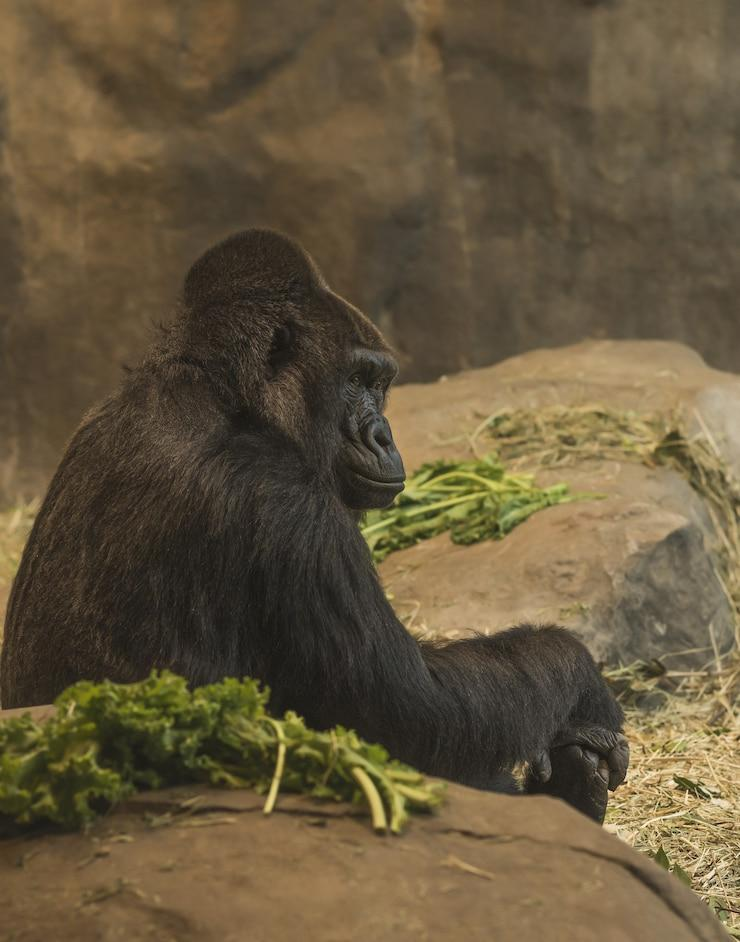gorille_Autres: (32, 216, 676, 816)
